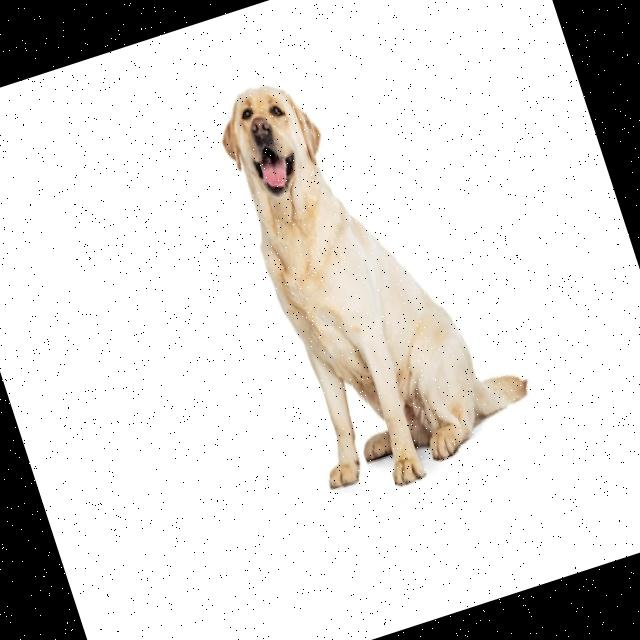Dog: (205, 35, 547, 508)
